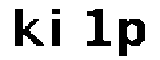1: (79, 7, 111, 50)
i: (50, 5, 68, 51)
k: (11, 6, 47, 50)
p: (116, 16, 150, 60)
